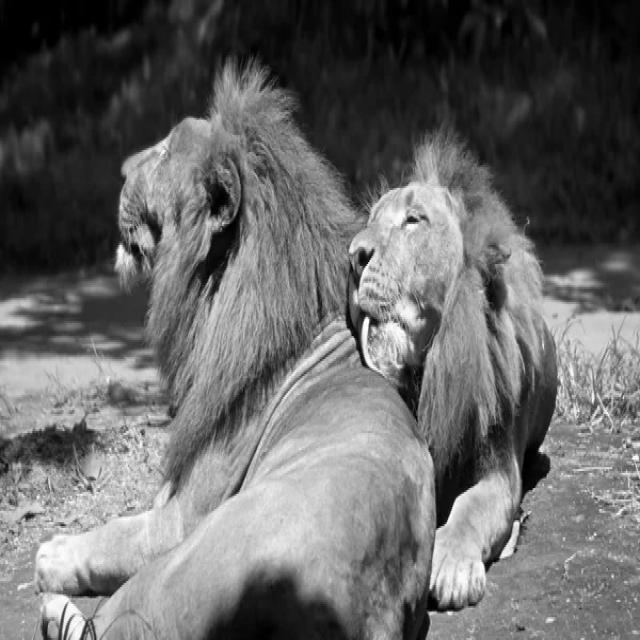Animal: (33, 58, 432, 635), (347, 145, 562, 608)
